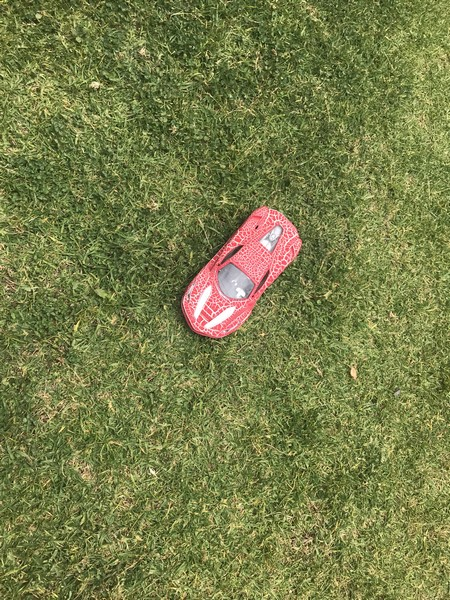RC: (178, 202, 305, 340)
